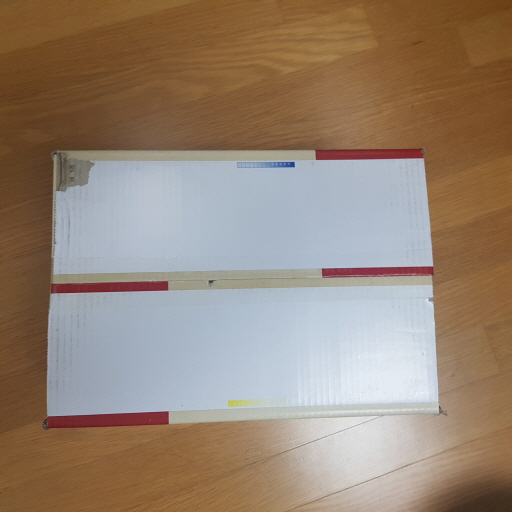Paper_0: (39, 140, 455, 434)
